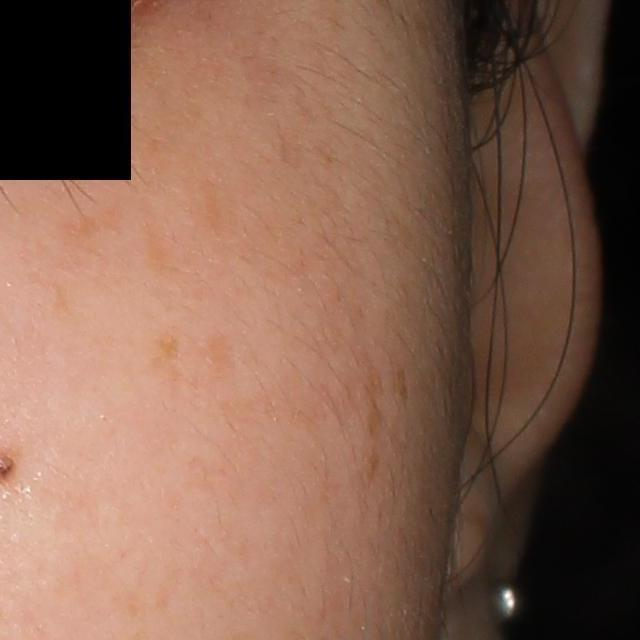melasma: (50, 201, 128, 246), (140, 209, 188, 277), (145, 325, 188, 390), (362, 355, 387, 444), (203, 325, 241, 377)
